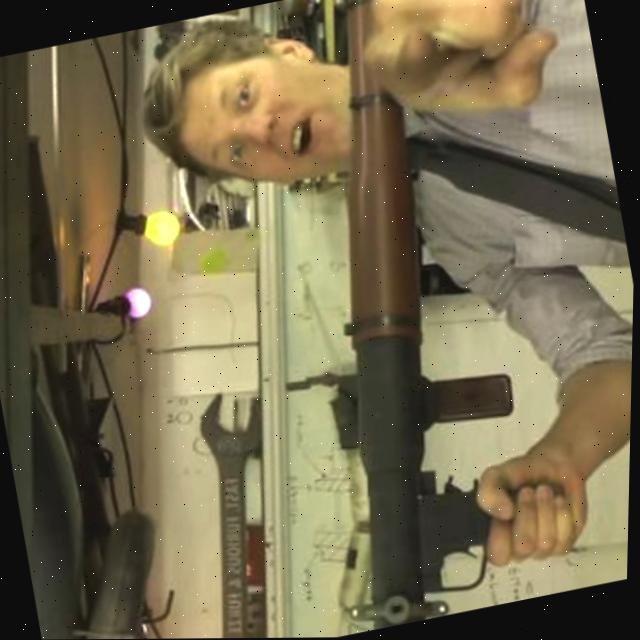rocket: (247, 45, 606, 636)
